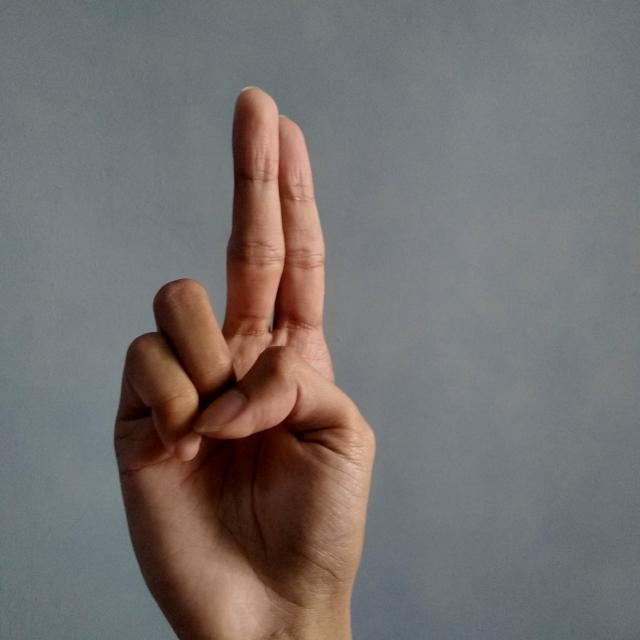U: (106, 78, 378, 640)
